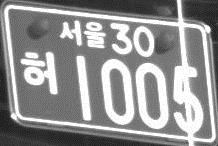0: (133, 61, 171, 130), (100, 57, 136, 125), (131, 25, 155, 57)
1: (74, 53, 95, 123)
3: (109, 21, 132, 56)
5: (173, 63, 205, 134)
서울_O: (60, 19, 106, 51)
허: (19, 48, 59, 97)
